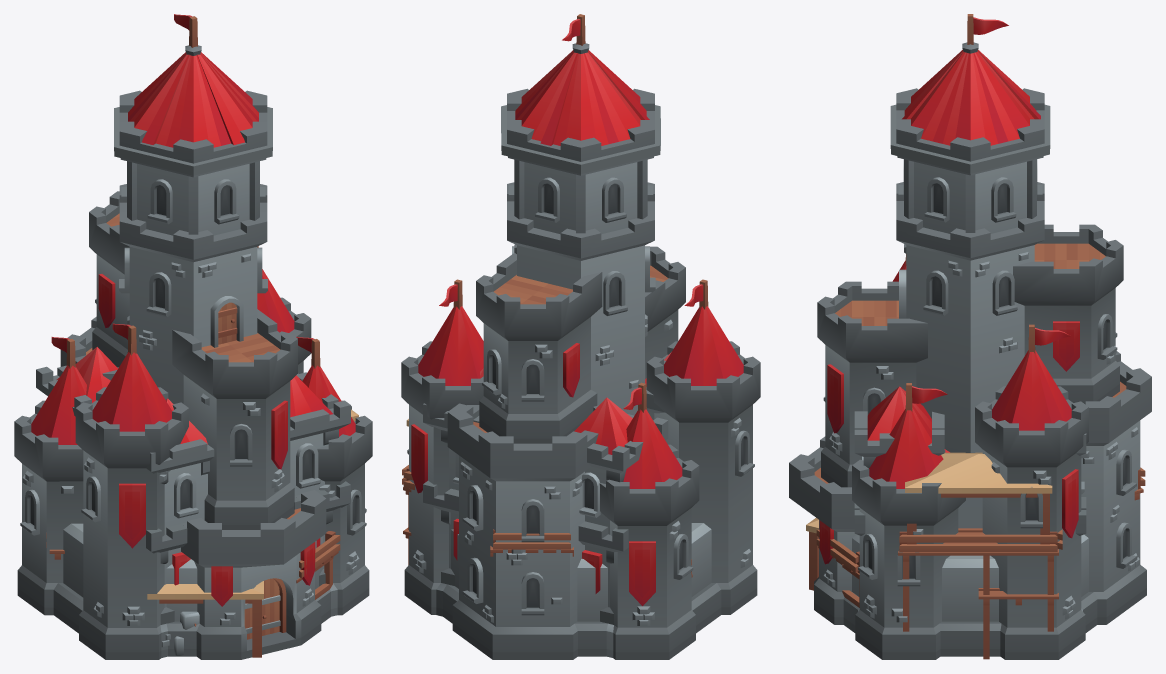
File: kit_village2.glb
3 views of the same model, side by side, from view 1: azimuth 30°, elevation 25°; view 2: azimuth 150°, elevation 25°; view 3: azimuth 270°, elevation 25° (orthographic).
Visible parts, largest first — view 1: building_castle_red, building_barracks_red, building_scaffolding; view 2: building_castle_red, building_barracks_red, building_scaffolding; view 3: building_castle_red, building_scaffolding, building_barracks_red.
Boxes of the visible parts, x1,y1,x2,y2 form: building_castle_red: (14,14,372,659); building_barracks_red: (36,347,350,657); building_scaffolding: (46,409,358,657); building_castle_red: (401,14,760,659); building_barracks_red: (423,352,671,657); building_scaffolding: (402,419,692,577); building_castle_red: (789,14,1151,659); building_scaffolding: (806,452,1145,659); building_barracks_red: (854,386,1086,611).
Size of the model in its own units: 1.98 by 3.98 by 2.26.
Materials: 1 (1 with a texture image).
